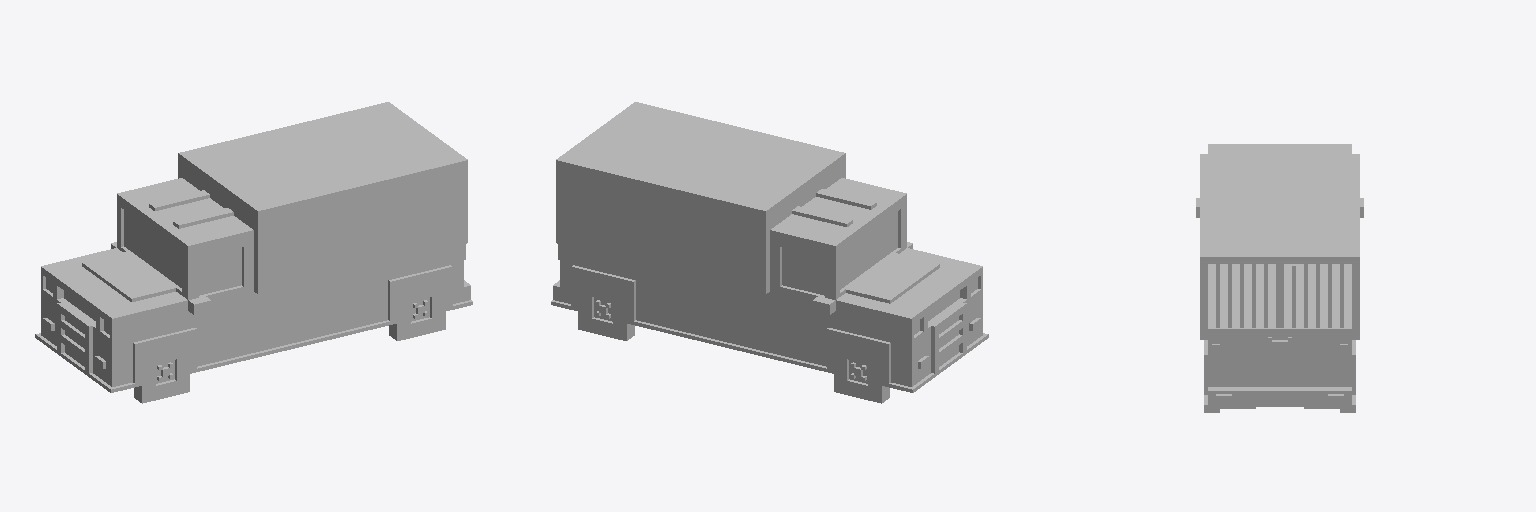
The model's file is alll cars3-77.obj.
The picture shows the model from 3 angles: view 1: azimuth 30°, elevation 25°; view 2: azimuth 150°, elevation 25°; view 3: azimuth 270°, elevation 25°; orthographic projection.
Visible parts, largest first — view 1: object 1; view 2: object 1; view 3: object 1.
Boxes of the visible parts, x1=… form: object 1: x1=35, y1=102, x2=472, y2=403; object 1: x1=551, y1=102, x2=988, y2=403; object 1: x1=1196, y1=144, x2=1363, y2=412.
Bounding box in the file's own units: 10.6 × 4.6 × 4.2.